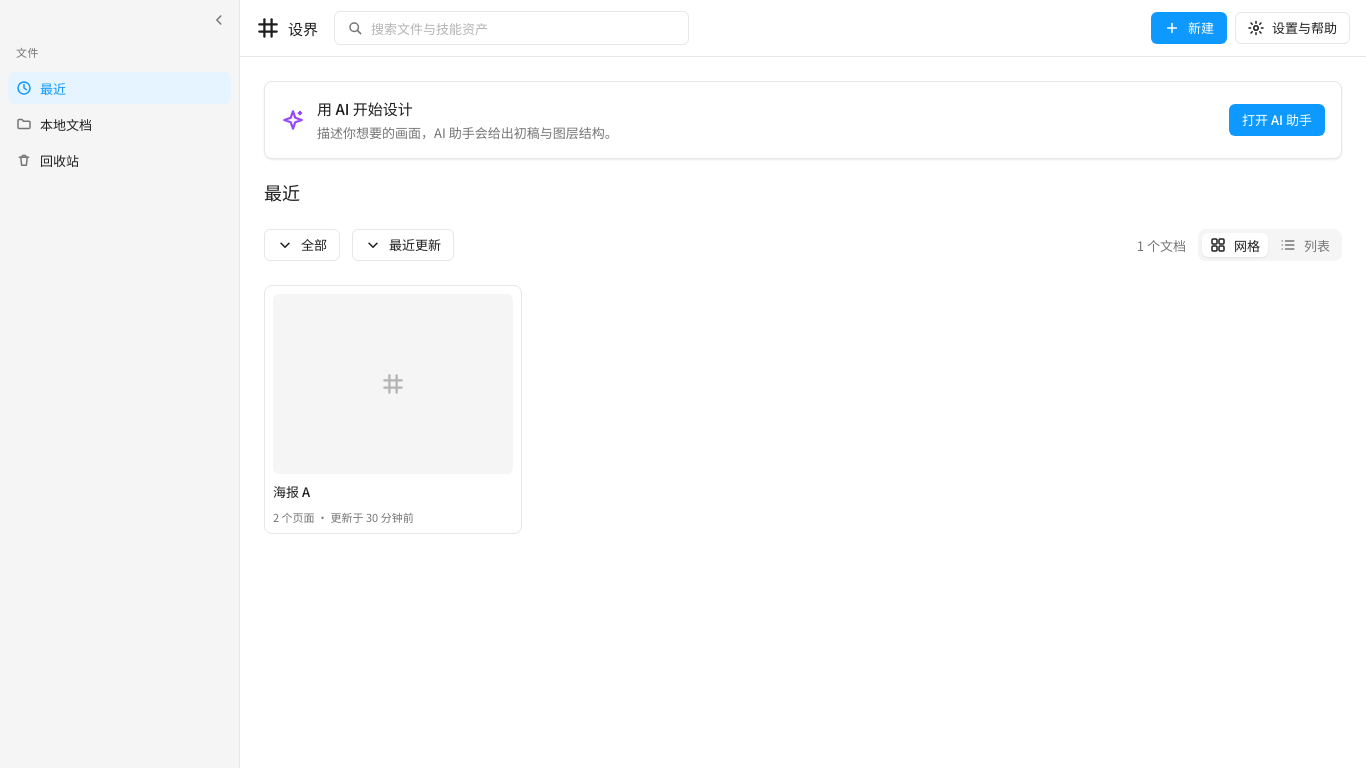
Test case: HomeView · 侧栏与回收站空态 › 切到回收站且无记录 → 「回收站为空」，返回本地文档后恢复列表
This screenshot has width=1366, height=768.
Expected: the link with aria-label "打开「海报 A」" is shown, 264,285 -> 522,534
Click the button "回收站": [120, 160] box 8,144 -> 231,176
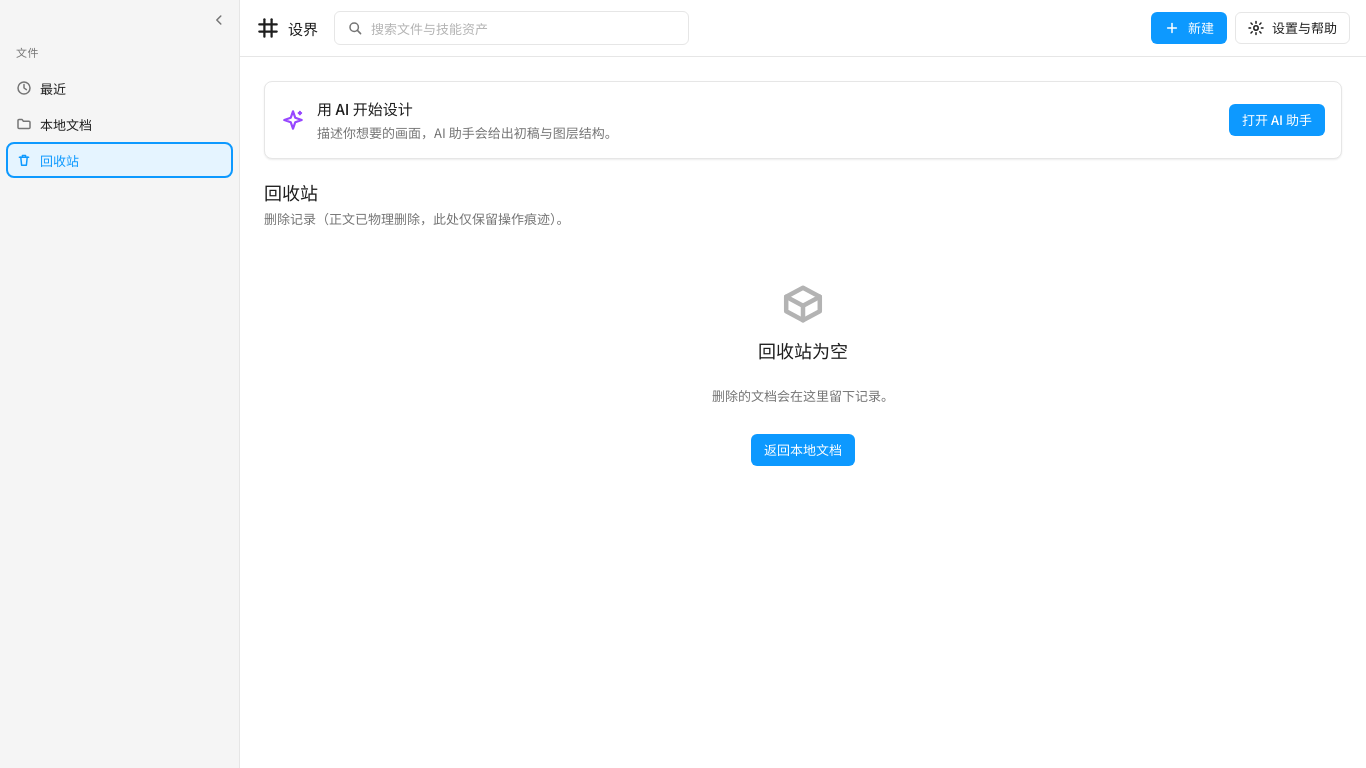
Expected: the text "回收站为空" is shown, 758,340 -> 848,362
Click the button "返回本地文档": [803, 450] box 751,434 -> 855,466
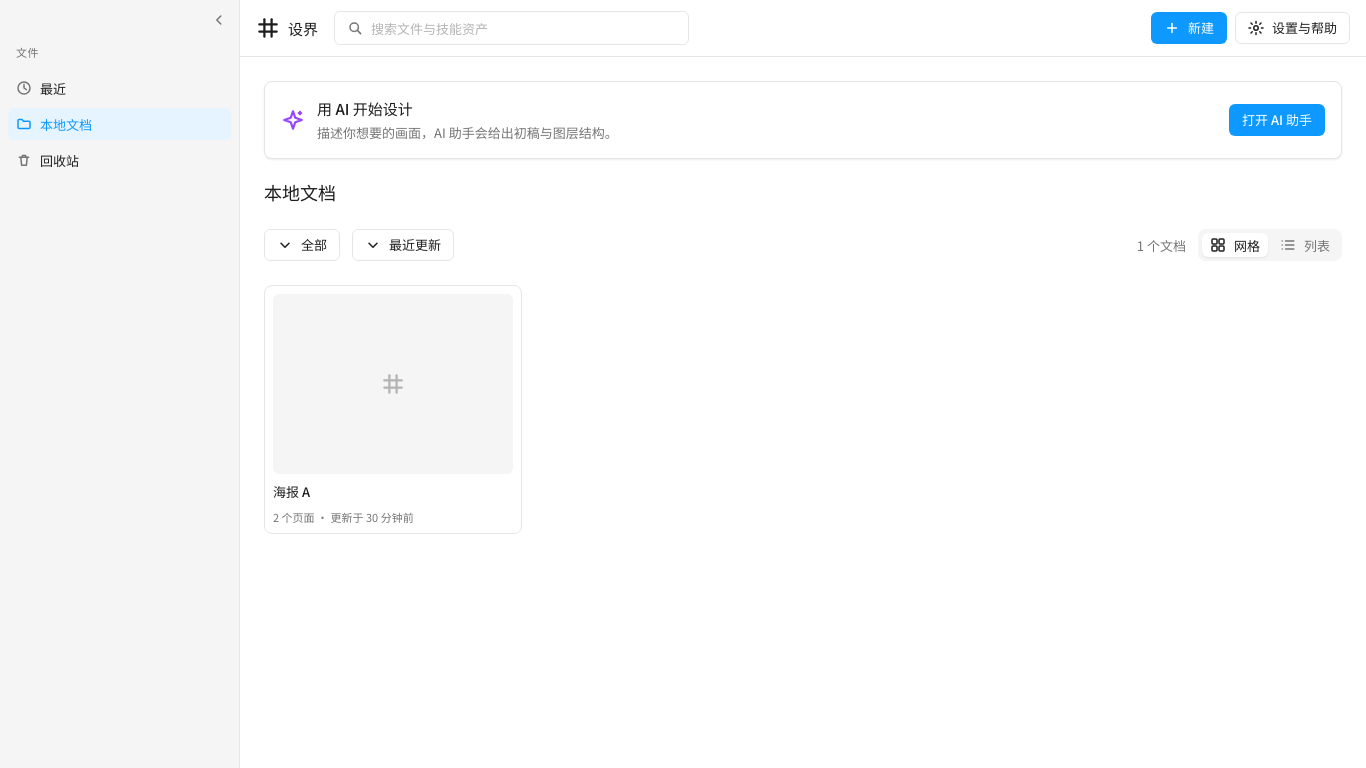
Expected: the link with aria-label "打开「海报 A」" is shown, 264,285 -> 522,534
